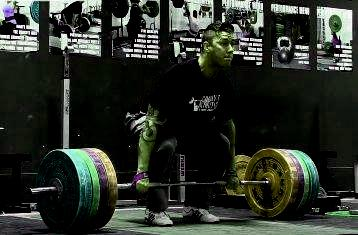Barbell: (26, 188, 36, 200)
